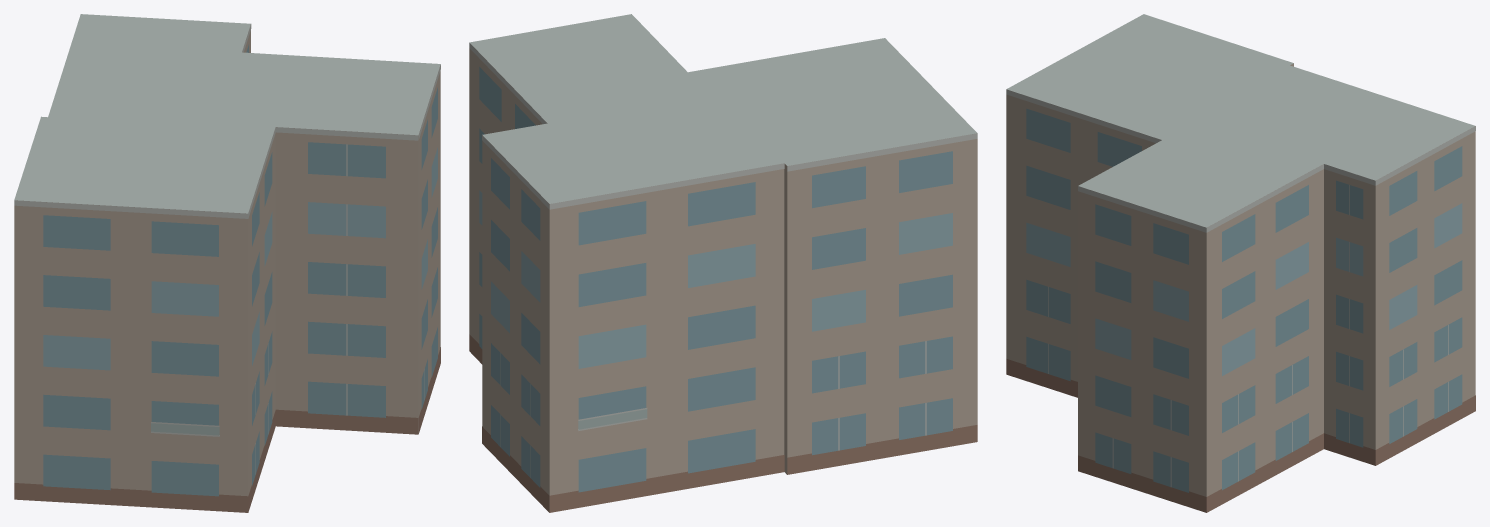
The model's file is survey-upis-32654010.glb.
3 views of the same model, side by side, from view 1: azimuth 30°, elevation 25°; view 2: azimuth 150°, elevation 25°; view 3: azimuth 270°, elevation 25° (orthographic). The views are drawn at different scales.
Visible parts, largest first — view 1: survey-upis-32654010.tmp; view 2: survey-upis-32654010.tmp; view 3: survey-upis-32654010.tmp.
Boxes of the visible parts, box(x1,y1,x2,y2) form: survey-upis-32654010.tmp: box(14, 14, 440, 512); survey-upis-32654010.tmp: box(469, 14, 977, 512); survey-upis-32654010.tmp: box(1006, 14, 1475, 512).
Bounding box in the file's own units: 21.7 × 13.5 × 20.15.
